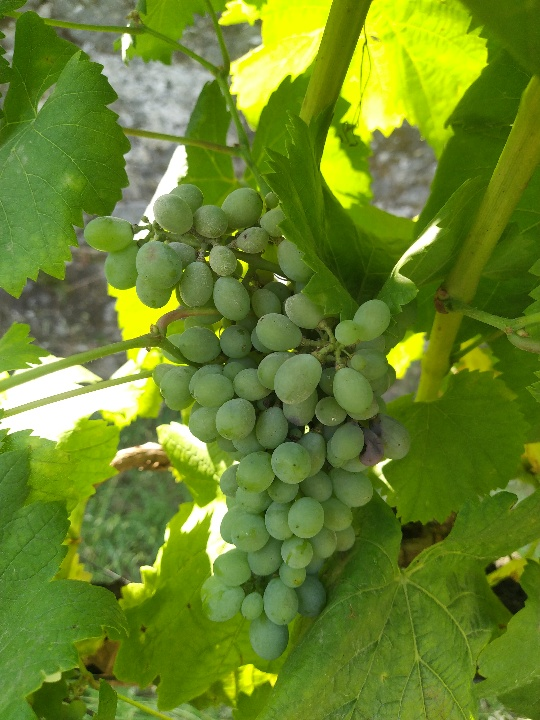grape: (79, 182, 421, 672)
